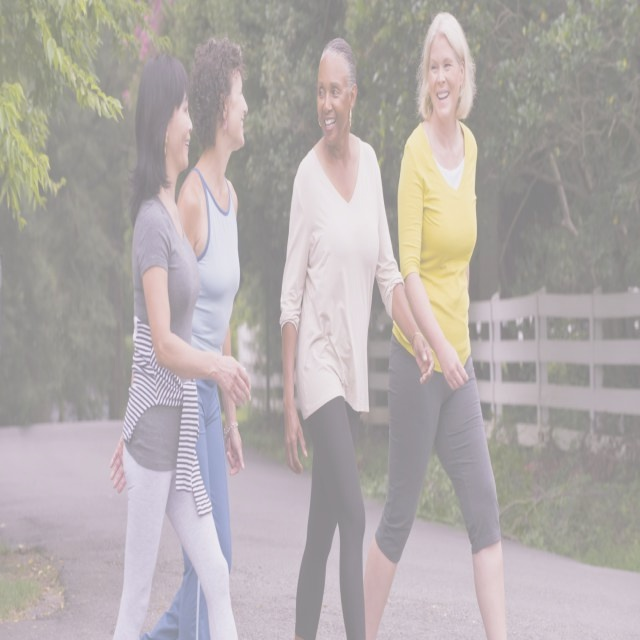pessoa: (96, 46, 268, 640), (277, 36, 434, 640), (361, 7, 508, 638), (126, 33, 247, 640)
